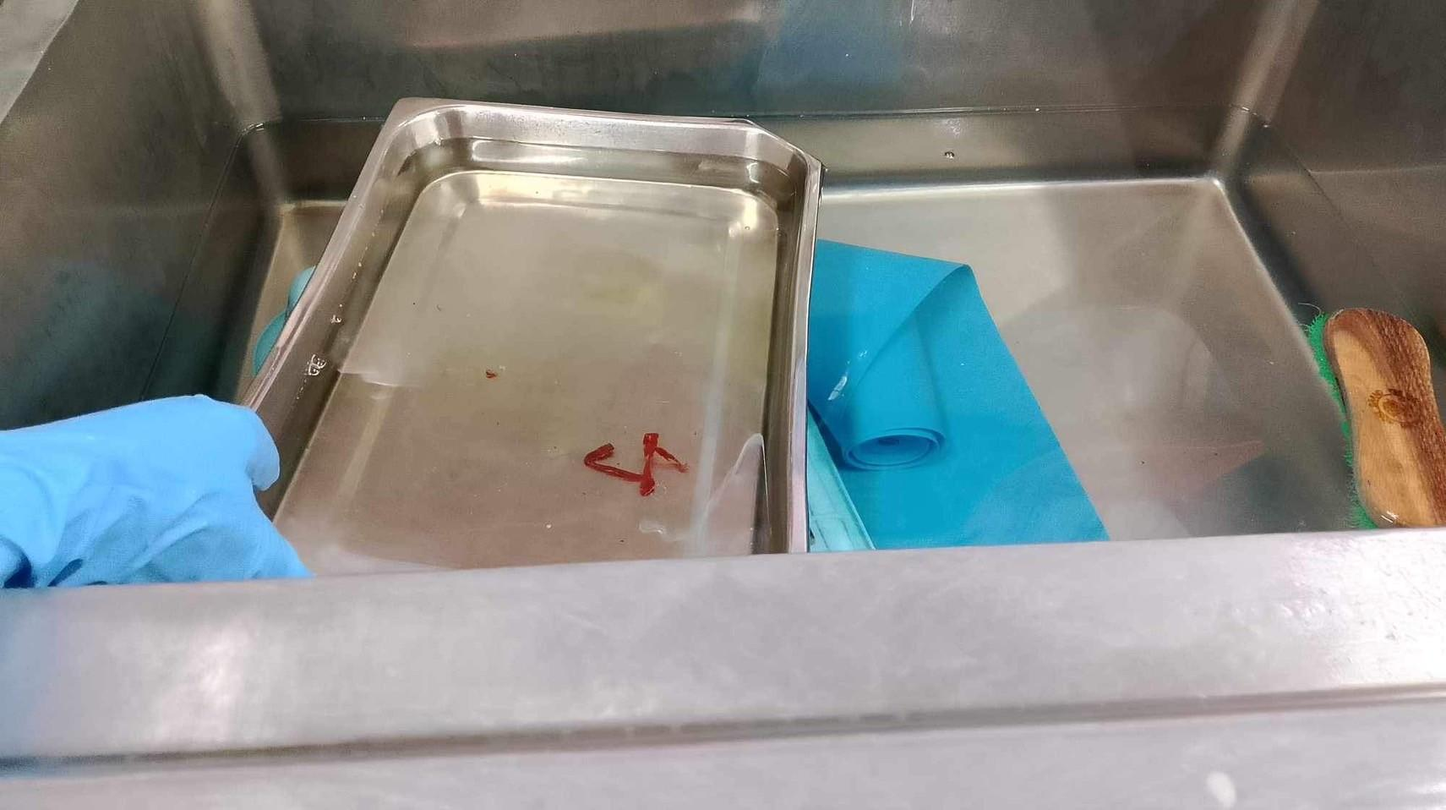General: (4, 9, 1439, 802), (236, 93, 827, 576)
Infectious: (805, 237, 1111, 550), (0, 391, 314, 588)
Sharps: (1321, 305, 1443, 528), (250, 263, 315, 376), (582, 430, 689, 497)
